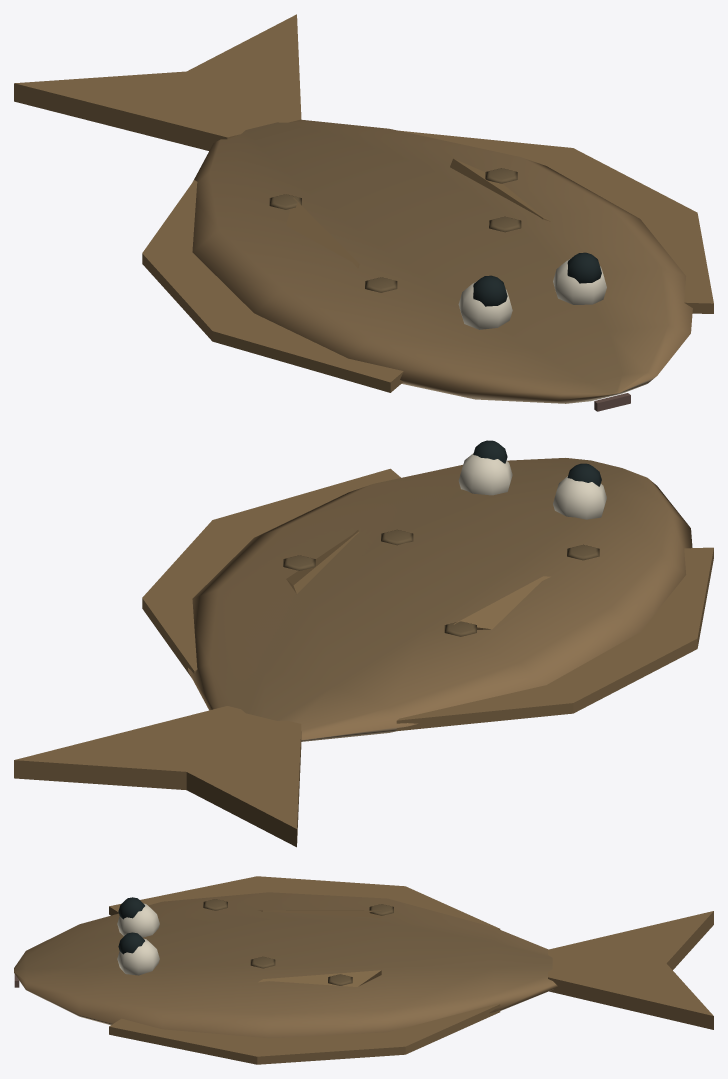
Rendered from komachi-flounder.glb.
3 views of the same model, one above another, from view 1: azimuth 30°, elevation 25°; view 2: azimuth 150°, elevation 25°; view 3: azimuth 270°, elevation 25° (orthographic). The views are drawn at different scales.
Visible parts, largest first — view 1: Fish_Body, Fish_Tail_Fin; view 2: Fish_Body, Fish_Tail_Fin; view 3: Fish_Body, Fish_Tail_Fin.
Part boxes in pixels (box(x1,y1,x2,y2)): Fish_Body: box(142, 119, 713, 411); Fish_Tail_Fin: box(14, 14, 301, 150); Fish_Body: box(142, 440, 713, 741); Fish_Tail_Fin: box(14, 706, 301, 847); Fish_Body: box(14, 876, 558, 1064); Fish_Tail_Fin: box(548, 911, 713, 1029).
Size of the model in its own units: 0.1224 by 0.0261 by 0.2006.
